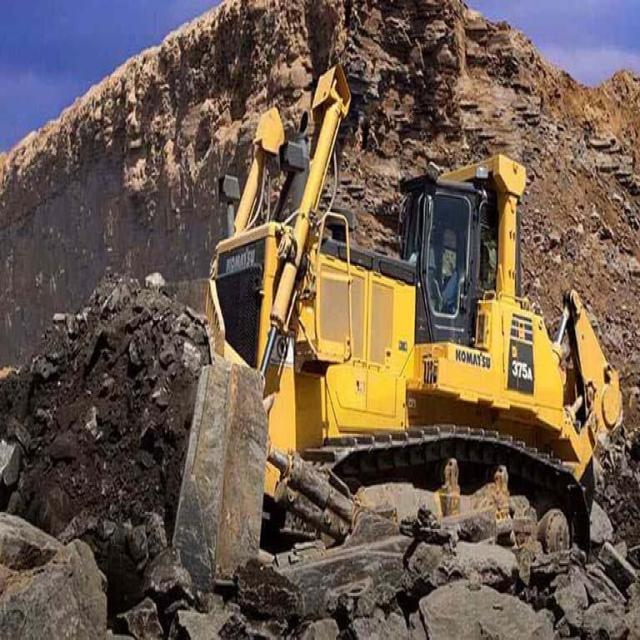buldozerpayloadergrader: (177, 69, 628, 572)
